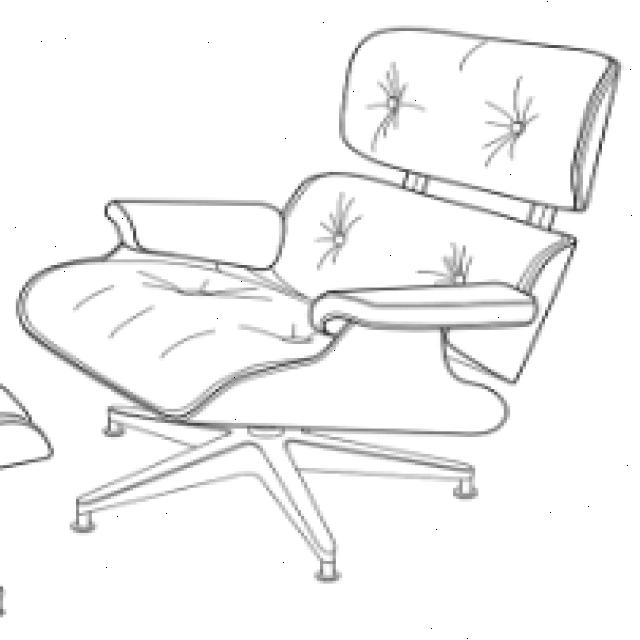Backrest: (268, 171, 574, 386)
Eames_base: (64, 401, 488, 587)
Eames_lounge: (306, 283, 539, 346), (102, 198, 284, 270)
Headrest: (337, 23, 625, 217)
Seat: (20, 254, 514, 436)
